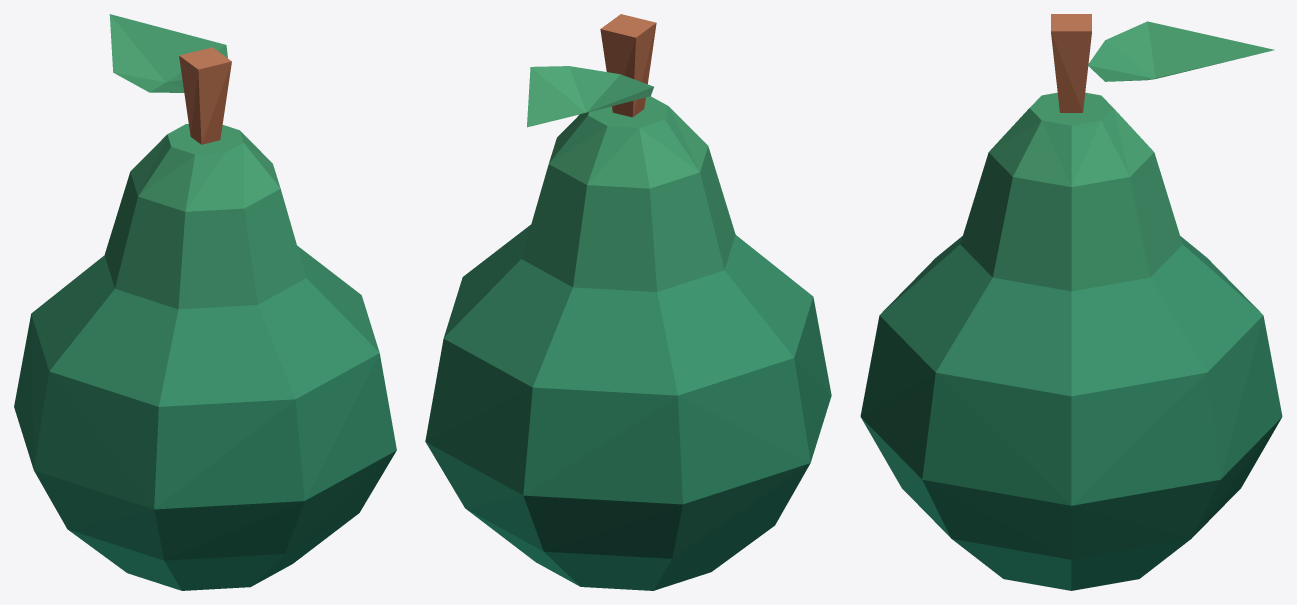
File: fruit_pear.glb
3 views of the same model, side by side, from view 1: azimuth 30°, elevation 25°; view 2: azimuth 150°, elevation 25°; view 3: azimuth 270°, elevation 25° (orthographic). The views are drawn at different scales.
Parts seen in each view (by area): view 1: fruit_pear; view 2: fruit_pear; view 3: fruit_pear.
Part boxes in pixels (x1,y1,x2,y2): fruit_pear: (14,14,396,590); fruit_pear: (425,14,831,590); fruit_pear: (860,14,1282,590).
Size of the model in its own units: 0.0942 by 0.13 by 0.0942.
